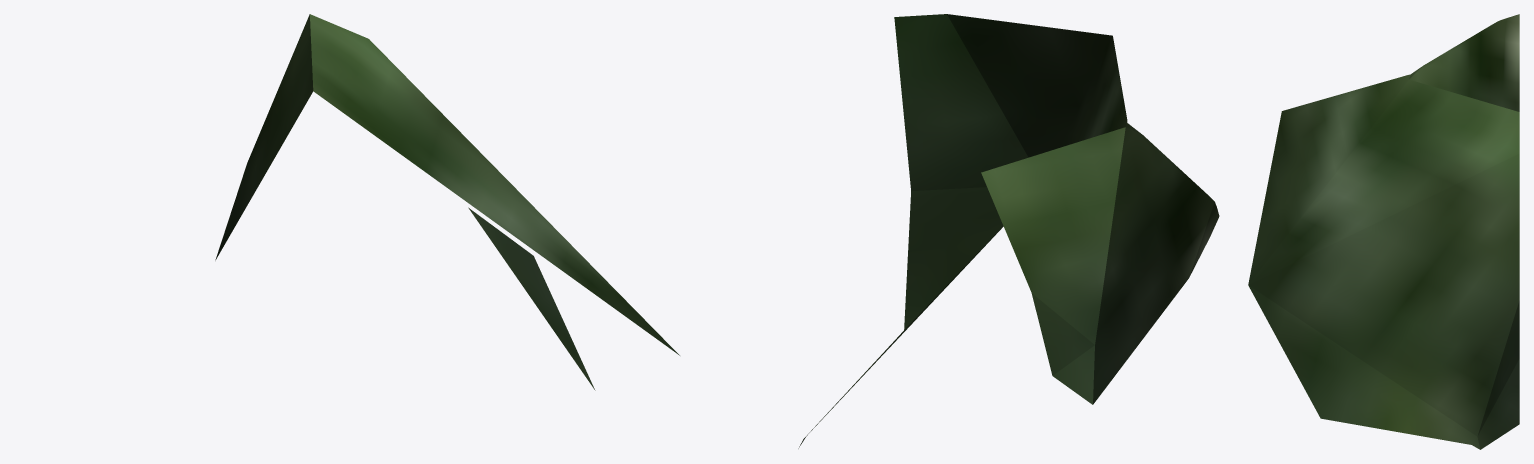
The picture shows the model from 3 angles, left to right: view 1: azimuth 30°, elevation 25°; view 2: azimuth 150°, elevation 25°; view 3: azimuth 270°, elevation 25°; orthographic projection. The views are drawn at different scales.
Size of the model in its own units: 3.86 by 2.98 by 2.7.
1 material, 1 textured.
